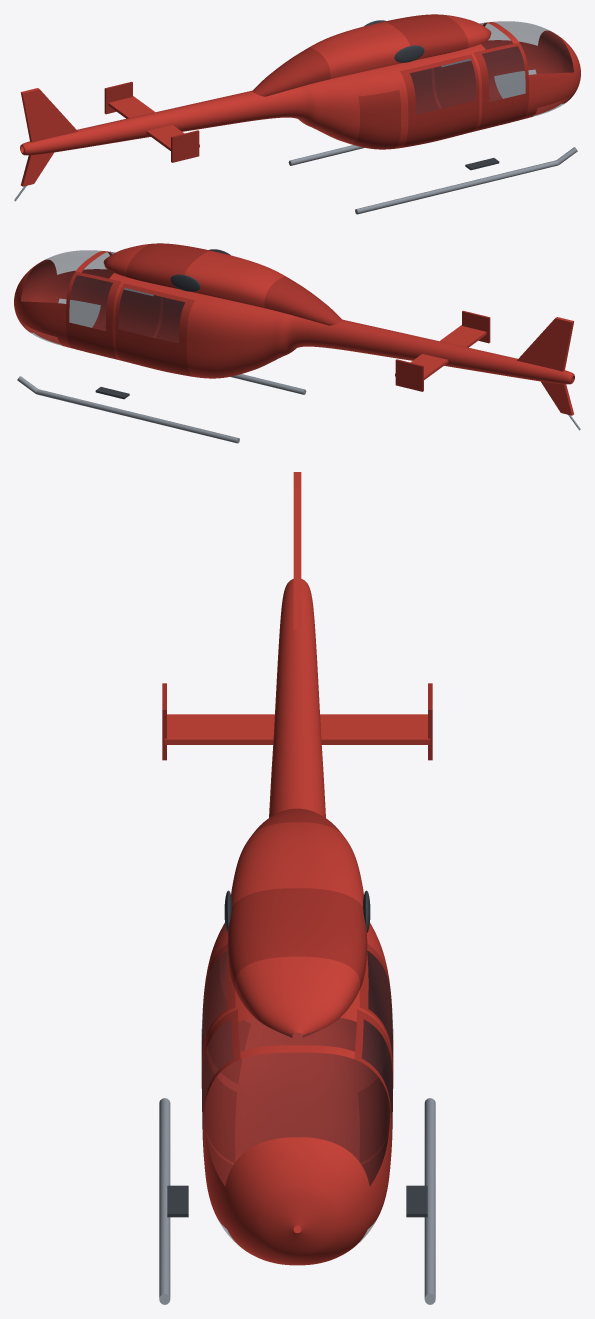
Rendered from heli_505.glb.
3 views of the same model, one above another, from view 1: azimuth 30°, elevation 25°; view 2: azimuth 150°, elevation 25°; view 3: azimuth 270°, elevation 25° (orthographic). The views are drawn at different scales.
Visible parts, largest first — view 1: cone_cauda, fuselagem, fus_traseira, carenagem_motor, porta_pax_R, parabrisa, porta_pax_R.001, deriva, porta_bag, carenagem_trans, carenagem_escape, porta_trip_R (+12 smaller); view 2: fus_traseira, cone_cauda, fuselagem, carenagem_motor, porta_pax_L, parabrisa, porta_pax_L.001, deriva, carenagem_trans, carenagem_escape, porta_trip_L, porta_trip_L.001 (+11 smaller); view 3: parabrisa, nariz, fuselagem, fus_traseira, carenagem_trans, cone_cauda, carenagem_motor, carenagem_diant, estabilizador, porta_pax_L, porta_pax_R, porta_bag (+10 smaller).
Part boxes in pixels (x1,y1,x2,y2): cone_cauda: (20, 90, 288, 155); fuselagem: (391, 22, 574, 148); fus_traseira: (284, 66, 403, 149); carenagem_motor: (309, 22, 410, 78); porta_pax_R: (400, 54, 479, 147); parabrisa: (485, 21, 573, 116); porta_pax_R.001: (410, 59, 476, 114); deriva: (20, 88, 77, 186); porta_bag: (352, 90, 400, 149); carenagem_trans: (383, 14, 468, 60); carenagem_escape: (252, 47, 330, 96); porta_trip_R: (473, 43, 528, 130); fus_traseira: (191, 295, 310, 378); cone_cauda: (306, 319, 574, 384); fuselagem: (20, 251, 203, 377); carenagem_motor: (184, 251, 285, 307); porta_pax_L: (115, 283, 194, 376); parabrisa: (21, 250, 109, 345); porta_pax_L.001: (118, 288, 184, 343); deriva: (517, 317, 574, 415); carenagem_trans: (126, 243, 211, 289); carenagem_escape: (264, 276, 342, 325); porta_trip_L: (66, 272, 121, 359); porta_trip_L.001: (69, 275, 112, 330); parabrisa: (204, 1053, 390, 1245); nariz: (224, 1137, 370, 1265); fuselagem: (202, 940, 392, 1253); fus_traseira: (204, 923, 390, 1095); carenagem_trans: (227, 888, 367, 989); cone_cauda: (269, 579, 325, 817); carenagem_motor: (231, 822, 363, 906); carenagem_diant: (235, 956, 359, 1037); estabilizador: (164, 714, 430, 744); porta_pax_L: (357, 944, 393, 1162); porta_pax_R: (201, 944, 237, 1162); porta_bag: (204, 941, 250, 1083).
Size of the model in its own units: 9.78 by 2.84 by 2.08.
